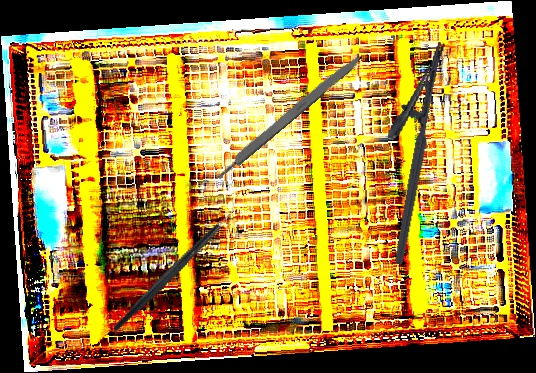Chopper: (85, 198, 263, 333)
Needle Holder: (362, 35, 448, 265)
Scalpel Handle: (212, 50, 366, 181)
